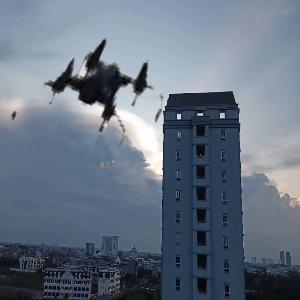drone: (20, 22, 172, 174)
